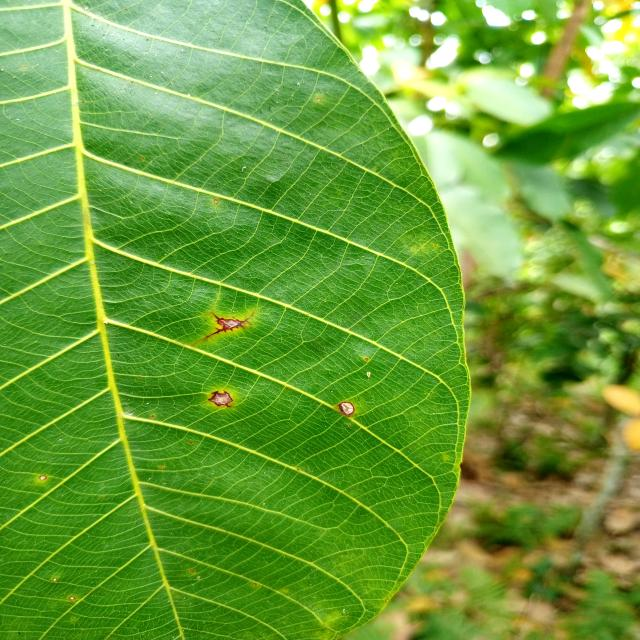Colletotrichum: (338, 401, 356, 415), (214, 199, 218, 204), (317, 98, 321, 101), (366, 358, 368, 361)
Corynespora: (194, 312, 254, 342)
